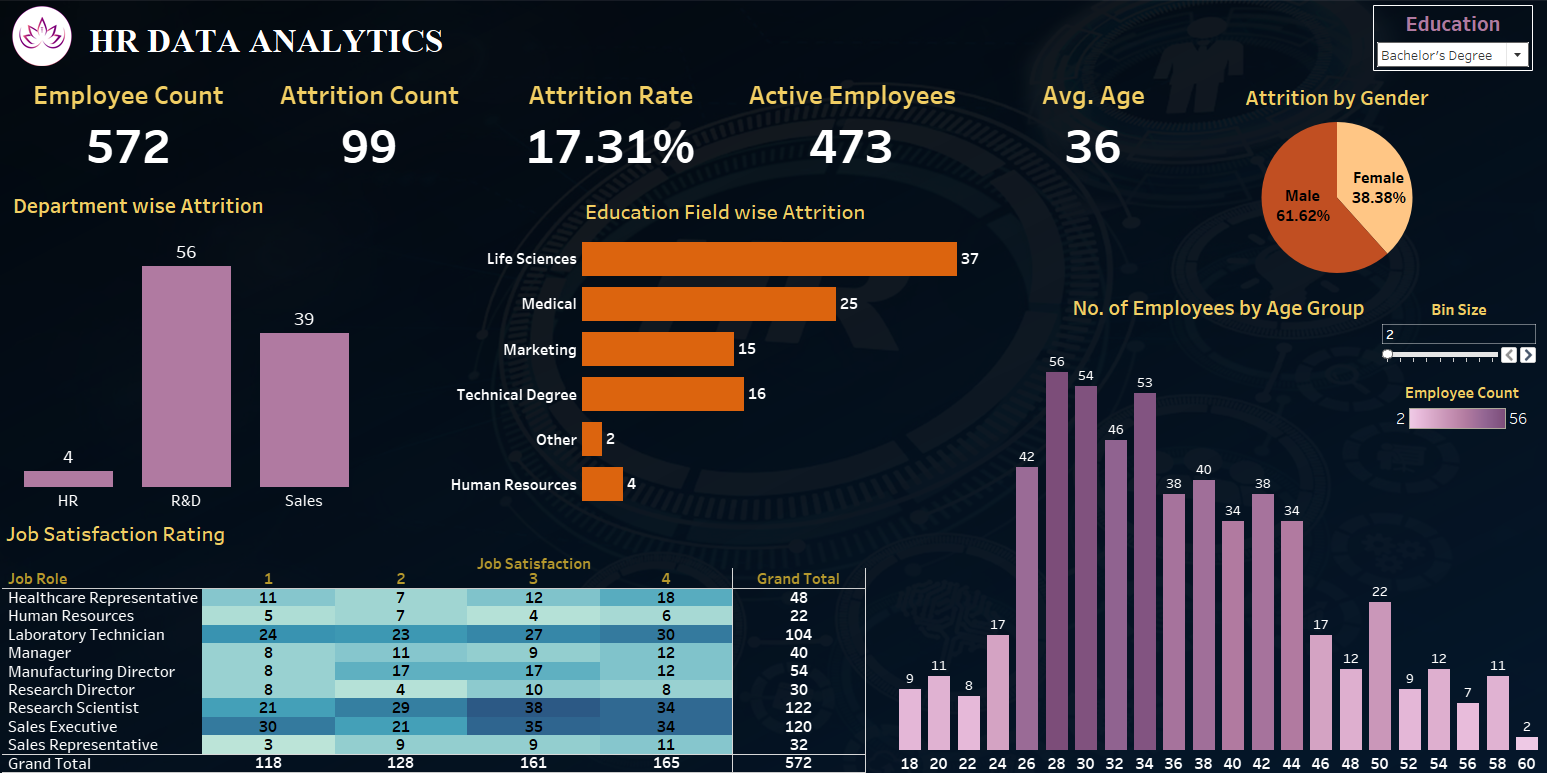

This screenshot's page, from the dashboard's own definition file:
{"tool":"tableau","page":{"name":"Dashboard 1","canvas":[1000,1000],"units":"permille","ordinal":0},"visuals":[{"type":"image","param":"Image/bg1.png","box":[5.1,10,989.9,980]},{"type":"image","param":"Image/logo.png","box":[9.5,21.2,55.1,76.2]},{"type":"filter","title":"Department wise Attrition","param":"[federated.1mih5650cwixov158ot0y03tkkte].[none:Education:nk]","box":[879.1,21.2,101.3,82.5]},{"type":"text","box":[64.6,32.5,235.4,68.8]},{"type":"worksheet","title":"KPI","mark":"Automatic","box":[15.2,103.8,763.3,133.8]},{"type":"worksheet","title":"Attrition by Gender","mark":"Pie","box":[746.2,113.8,220.2,242.5]},{"type":"worksheet","title":"Department wise Attrition","mark":"Automatic","rows":["Calculation_1563312085716348928"],"cols":["Department"],"box":[15.8,248.8,224.7,406.2]},{"type":"worksheet","title":"Education Field wise Attrition","mark":"Automatic","rows":["Education Field"],"cols":["Calculation_1563312085716348928"],"box":[289.9,256.2,358.2,392.5]},{"type":"worksheet","title":"No. of Employees by Age Group","mark":"Automatic","rows":["Employee Count"],"cols":["Age (bin)"],"box":[576.6,376.2,409.5,607.5]},{"type":"parameter","param":"[Parameters].[Parameter 1]","box":[882.9,388.8,101.3,88.8]},{"type":"legend","title":"No. of Employees by Age Group","param":"[federated.1mih5650cwixov158ot0y03tkkte].[sum:Employee Count:qk]","box":[891.1,492.5,88.6,110]},{"type":"worksheet","title":"Job Satisfaction Rating","mark":"Square","rows":["Job Role"],"cols":["Job Satisfaction"],"box":[11.4,658.8,546.8,322.5]}]}

Visuals, with their boxes on the dashboard's canvas, which has no fixed pixel size, in thousandths of its width and height (x1, y1, x2, y2). These are canvas units, not pixel positions in the 1547x773 screenshot, which may show the page scaled, cropped or inside an application window:
image: (left=5, top=10, right=995, bottom=990)
image: (left=10, top=21, right=65, bottom=97)
"Department wise Attrition" filter: (left=879, top=21, right=980, bottom=104)
text: (left=65, top=32, right=300, bottom=101)
"KPI" worksheet: (left=15, top=104, right=778, bottom=238)
"Attrition by Gender" worksheet (Pie marks): (left=746, top=114, right=966, bottom=356)
"Department wise Attrition" worksheet: (left=16, top=249, right=240, bottom=655)
"Education Field wise Attrition" worksheet: (left=290, top=256, right=648, bottom=649)
"No. of Employees by Age Group" worksheet: (left=577, top=376, right=986, bottom=984)
parameter: (left=883, top=389, right=984, bottom=478)
"No. of Employees by Age Group" legend: (left=891, top=492, right=980, bottom=602)
"Job Satisfaction Rating" worksheet (Square marks): (left=11, top=659, right=558, bottom=981)
